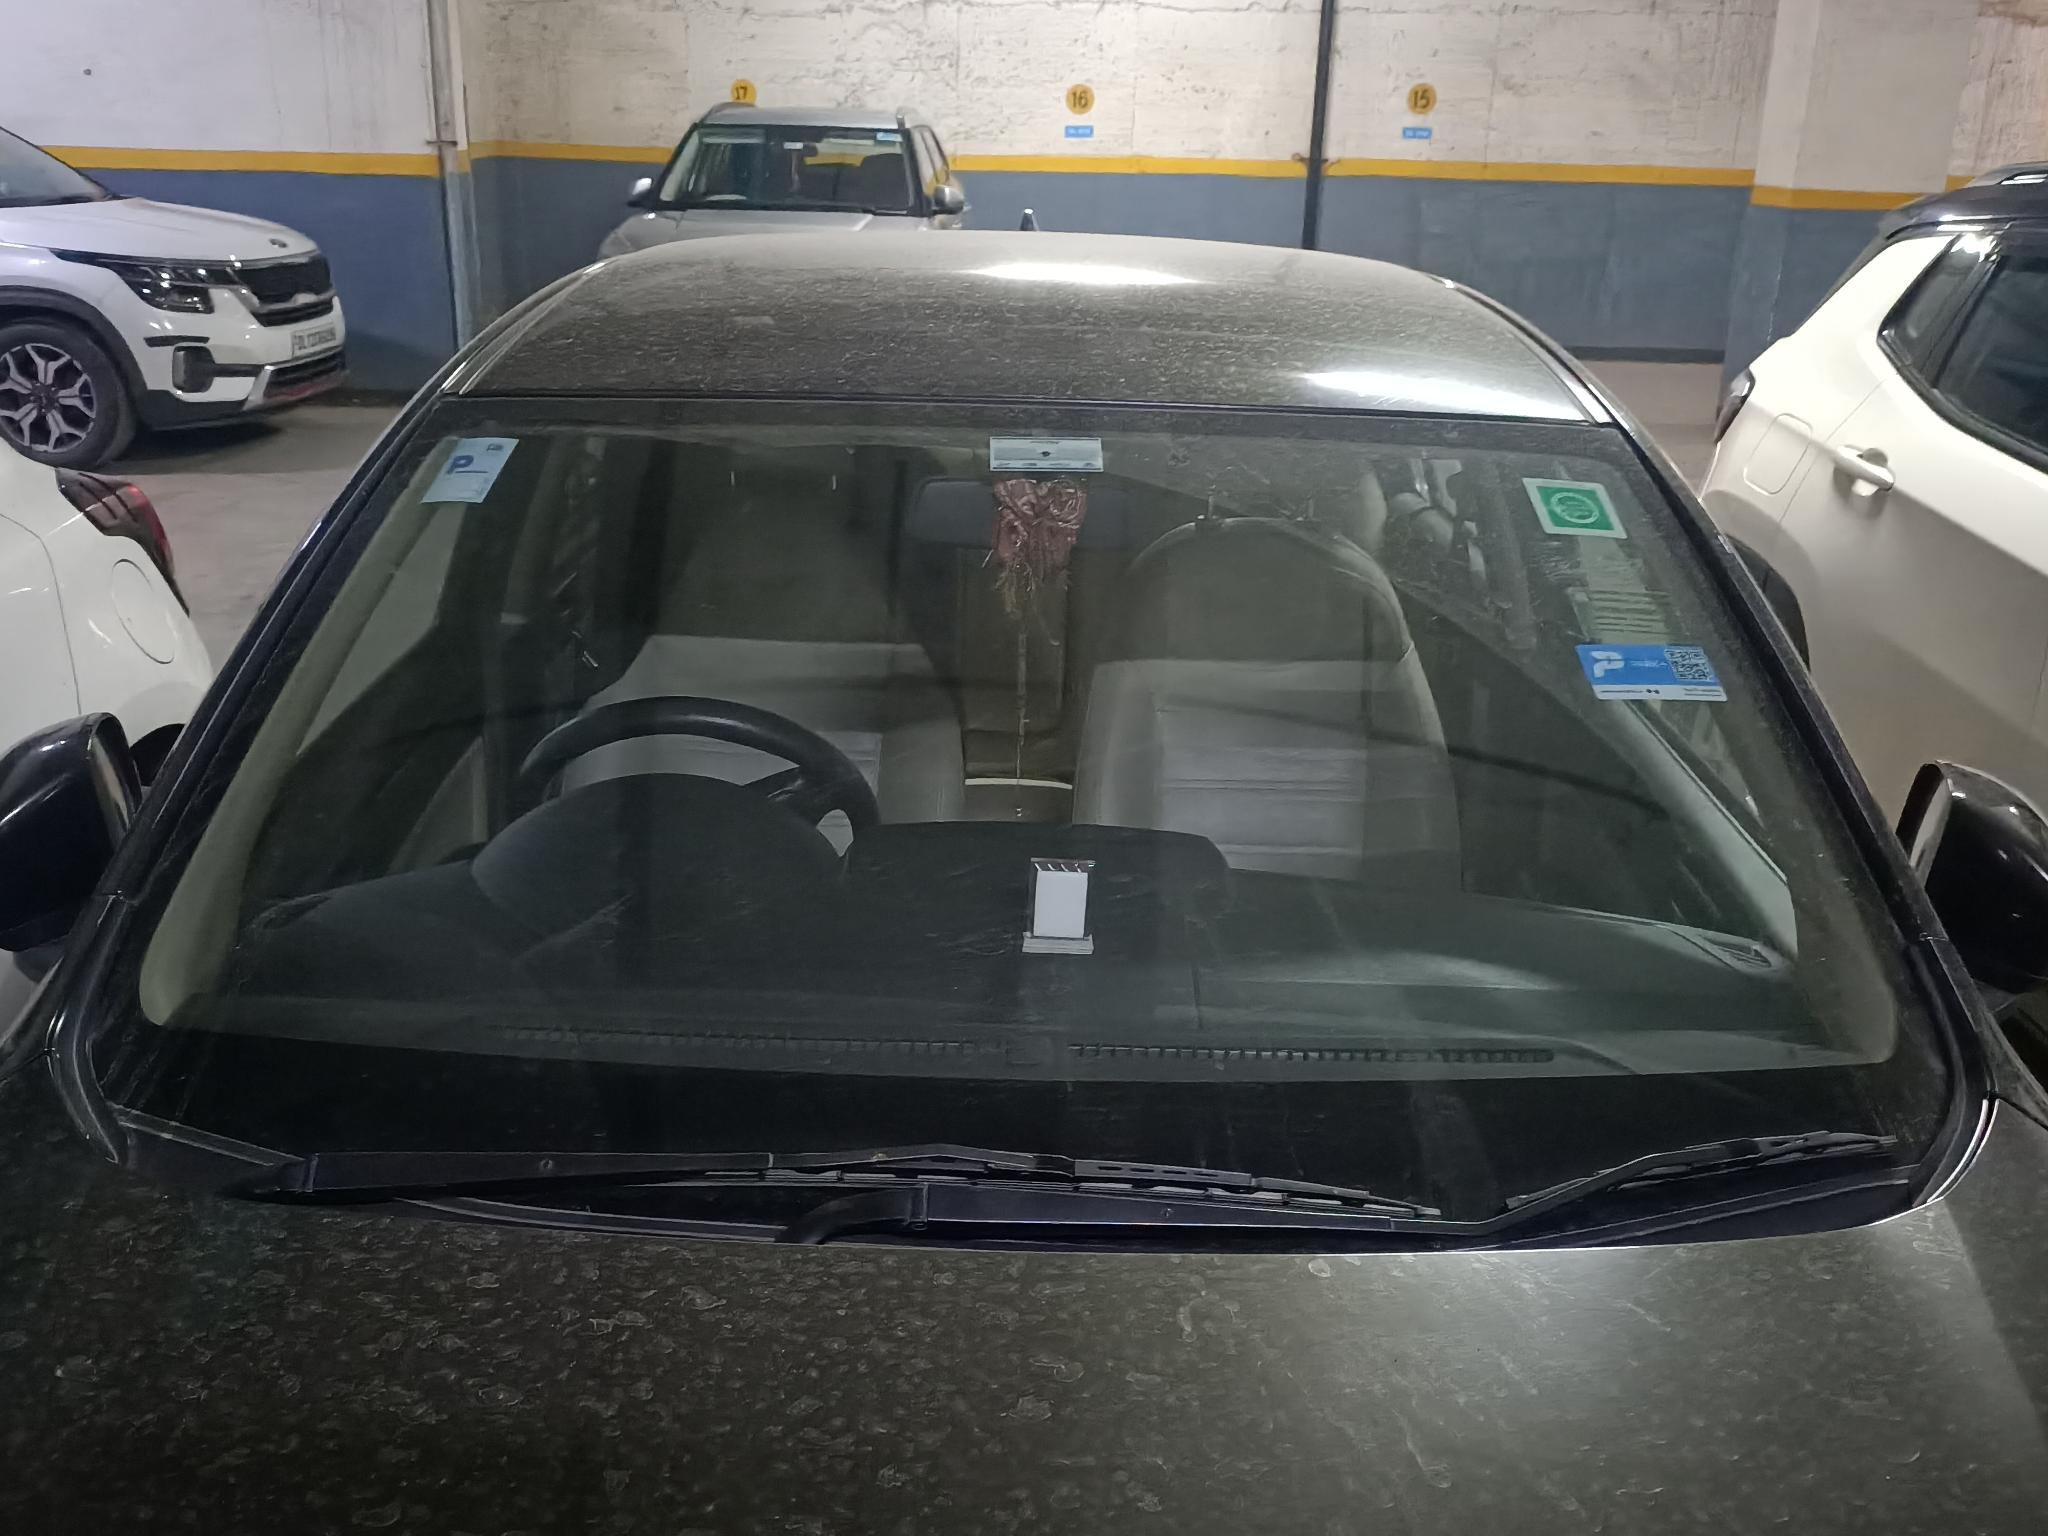FastTag: (971, 407, 1138, 495)
not a FastTag: (1576, 628, 1737, 715), (408, 424, 524, 515), (1506, 470, 1638, 539)
